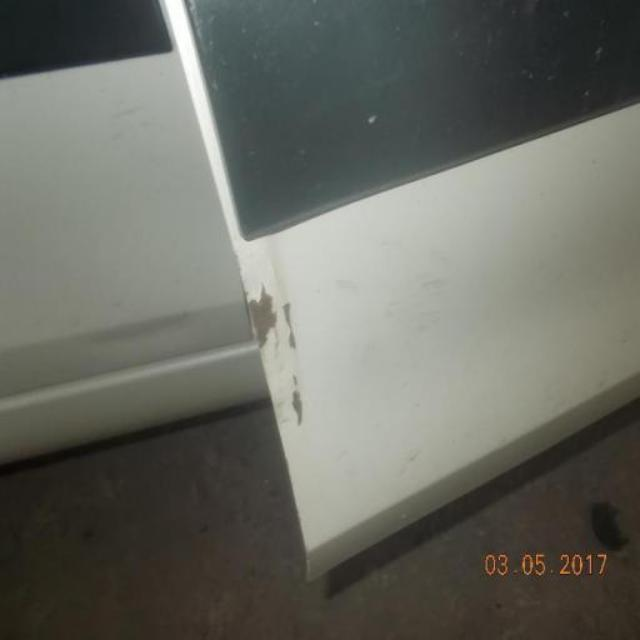crack: (247, 280, 281, 357), (290, 377, 307, 429), (283, 302, 298, 351)
